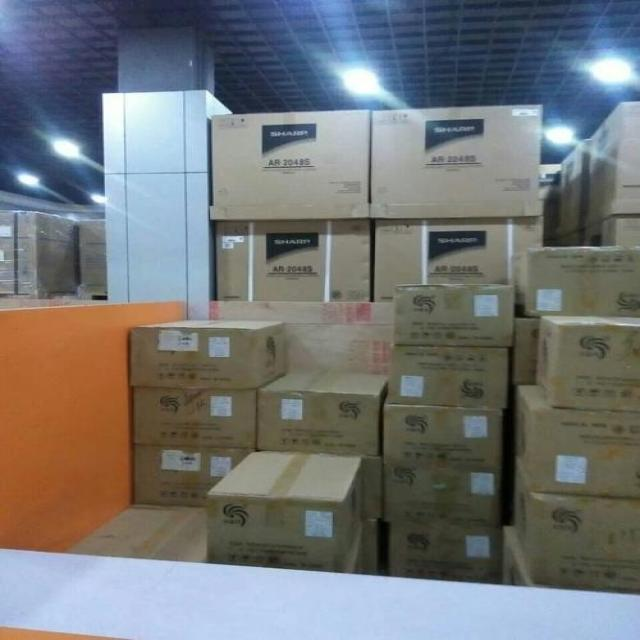box: (204, 451, 361, 577), (372, 107, 542, 217), (211, 110, 372, 220), (512, 460, 639, 593), (516, 382, 639, 497), (373, 217, 543, 300), (212, 300, 394, 375), (215, 219, 371, 301), (256, 373, 388, 456), (130, 319, 287, 388), (535, 318, 638, 413), (513, 246, 639, 318), (382, 404, 504, 469), (393, 284, 514, 348), (385, 346, 511, 407), (133, 387, 258, 446), (382, 465, 502, 526), (132, 447, 253, 505), (386, 524, 500, 584), (586, 102, 639, 224), (556, 141, 591, 234), (501, 526, 536, 587)
